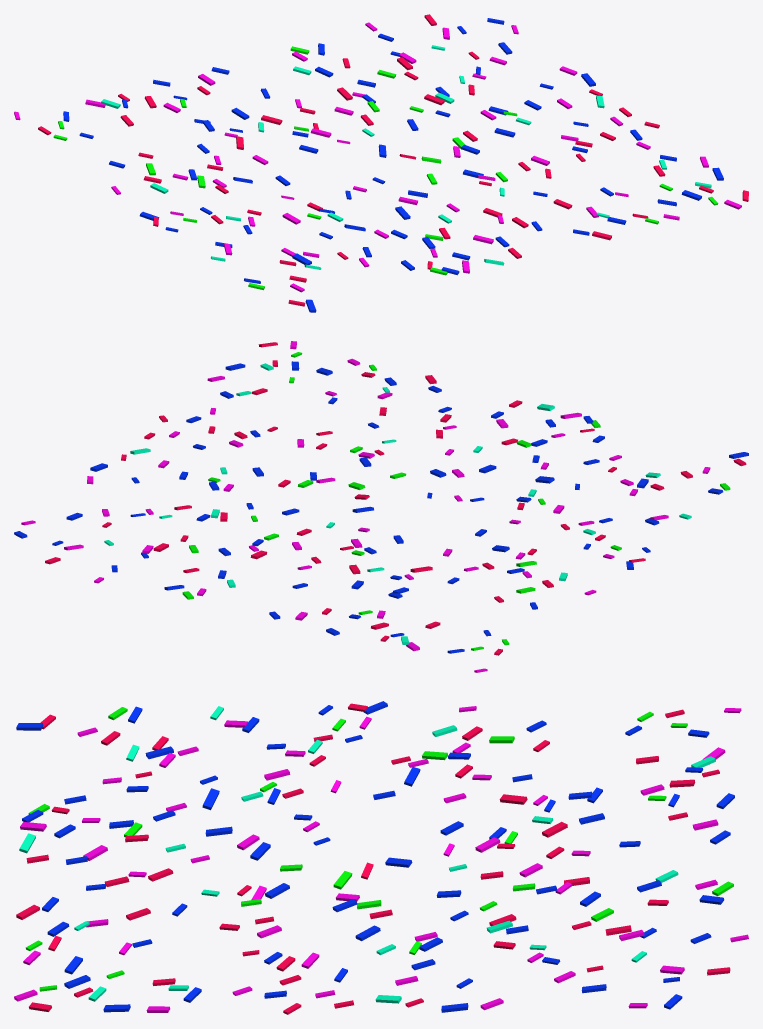
Rendered from confetti-bot-3-all.fbx.
3 views of the same model, one above another, from view 1: azimuth 30°, elevation 25°; view 2: azimuth 150°, elevation 25°; view 3: azimuth 270°, elevation 25° (orthographic). The views are drawn at different scales.
Parts seen in each view (by area): view 1: xpScatter_1; view 2: xpScatter_1; view 3: xpScatter_1.
Part boxes in pixels (left/top/right/bottom): xpScatter_1: left=14, top=14, right=748, bottom=312; xpScatter_1: left=14, top=341, right=748, bottom=672; xpScatter_1: left=14, top=701, right=748, bottom=1014.
Bounding box in the file's own units: 510 × 8.66 × 513.
